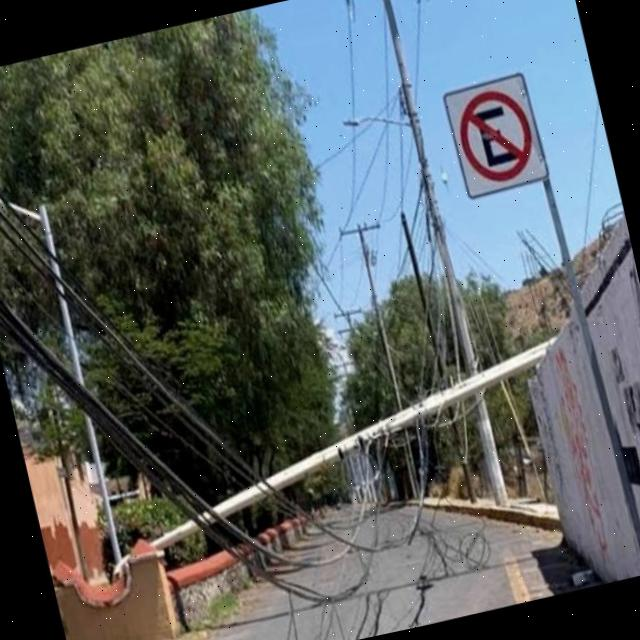Broken Pole: (148, 337, 552, 551)
